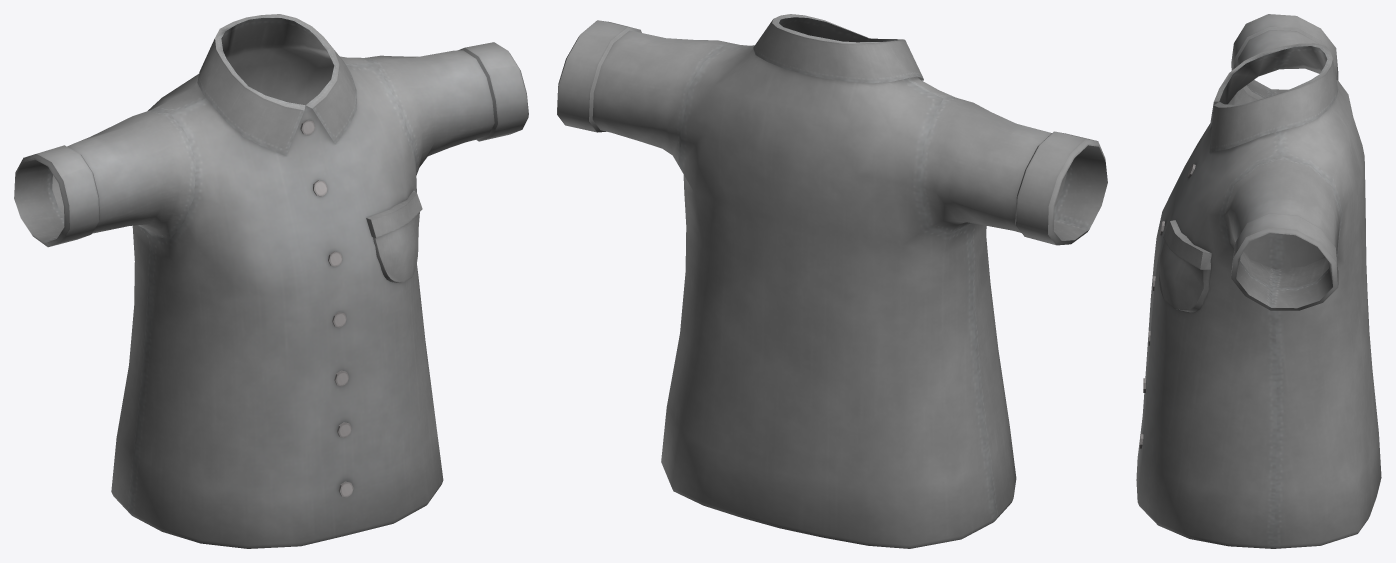
The model's file is jacket.glb.
3 renders of one model, left to right at view 1: azimuth 30°, elevation 25°; view 2: azimuth 150°, elevation 25°; view 3: azimuth 270°, elevation 25°, orthographic. The views are drawn at different scales.
Visible parts, largest first — view 1: Set_01_U.001; view 2: Set_01_U.001; view 3: Set_01_U.001.
Boxes of the visible parts, box(x1,y1,x2,y2) form: Set_01_U.001: box(14, 14, 528, 548); Set_01_U.001: box(557, 14, 1107, 548); Set_01_U.001: box(1136, 14, 1381, 548).
Bounding box in the file's own units: 0.5126 × 0.4648 × 0.2429.
Materials: 1 (1 with a texture image).
